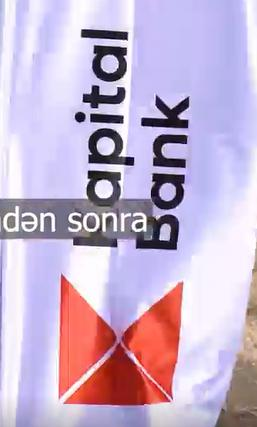Kapital Bank: (56, 269, 185, 405)
